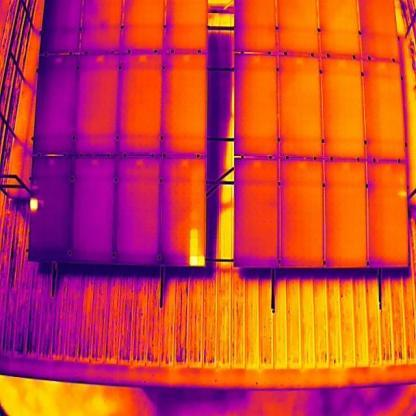anomaly: (185, 227, 208, 270), (22, 194, 46, 212)
